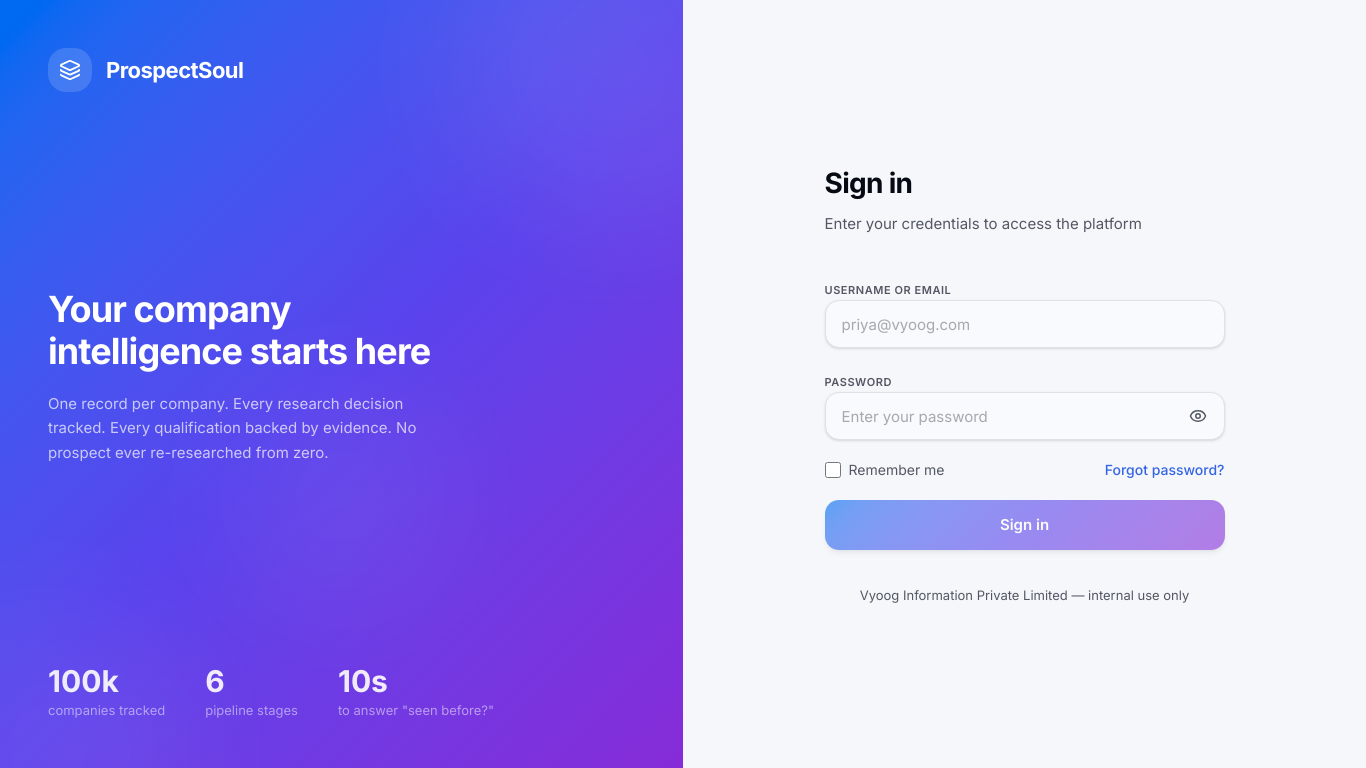
Test: LoginPage › shows error message on failed login
Type "bad" into the field labelled "Username or email" at (1024,324), box [824, 300, 1224, 348]
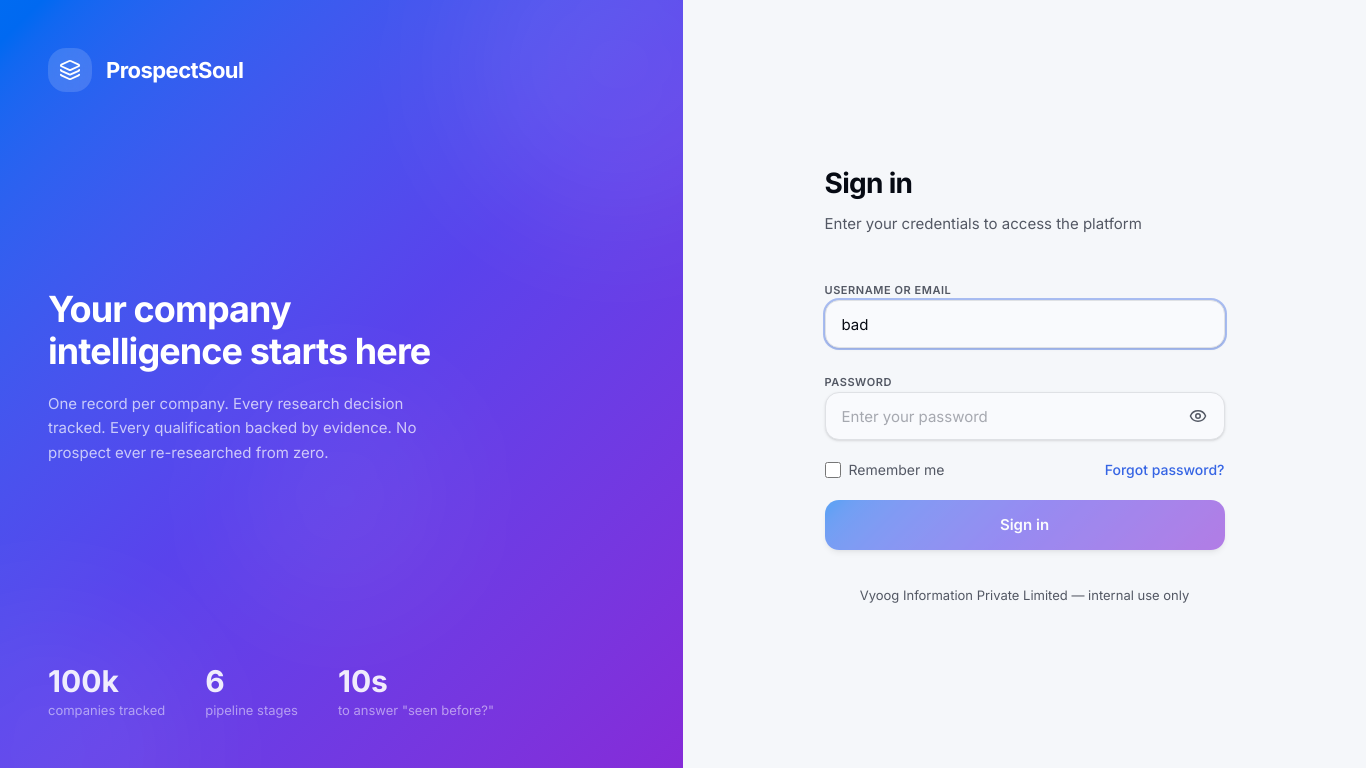
Type "wrong" into the password field labelled "Password" at (1024,416), box [824, 392, 1224, 440]
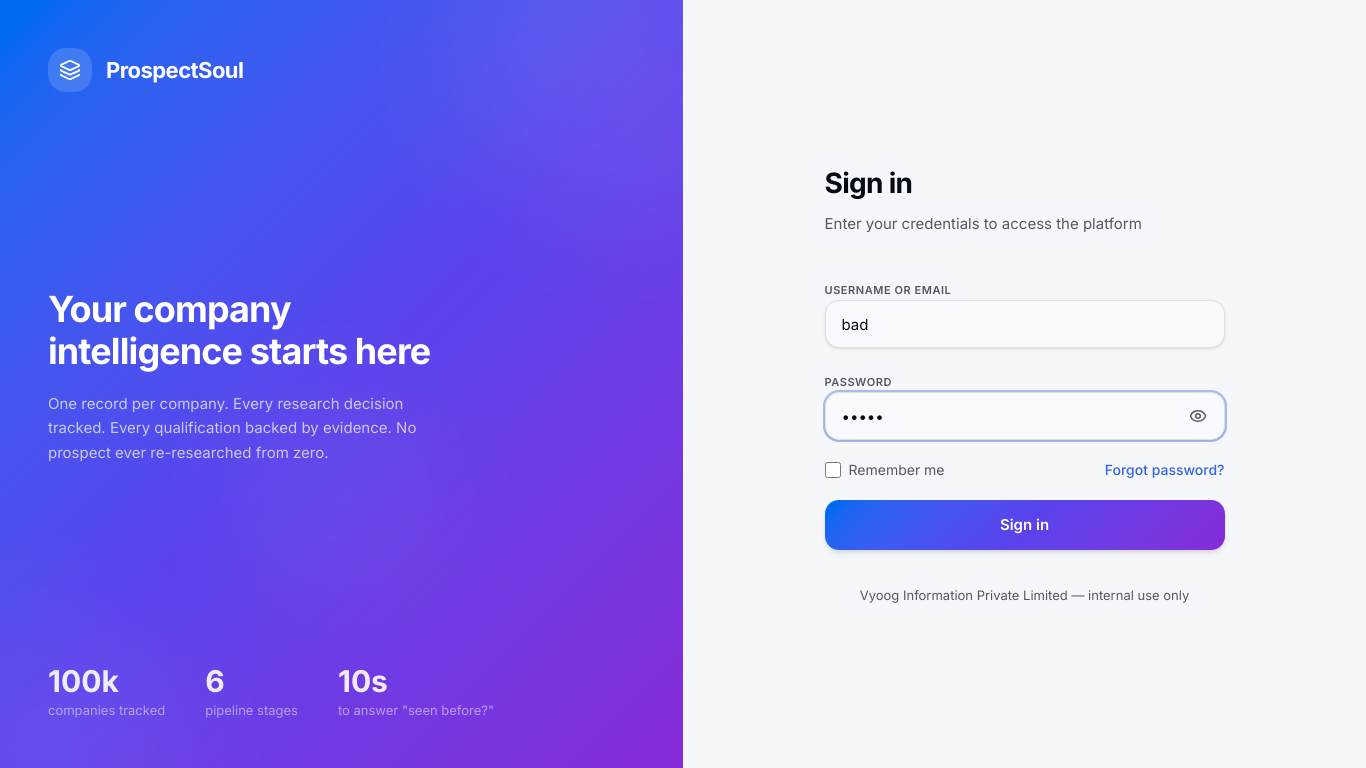
Click the button "Sign in" at (1024,525), box [824, 500, 1224, 550]
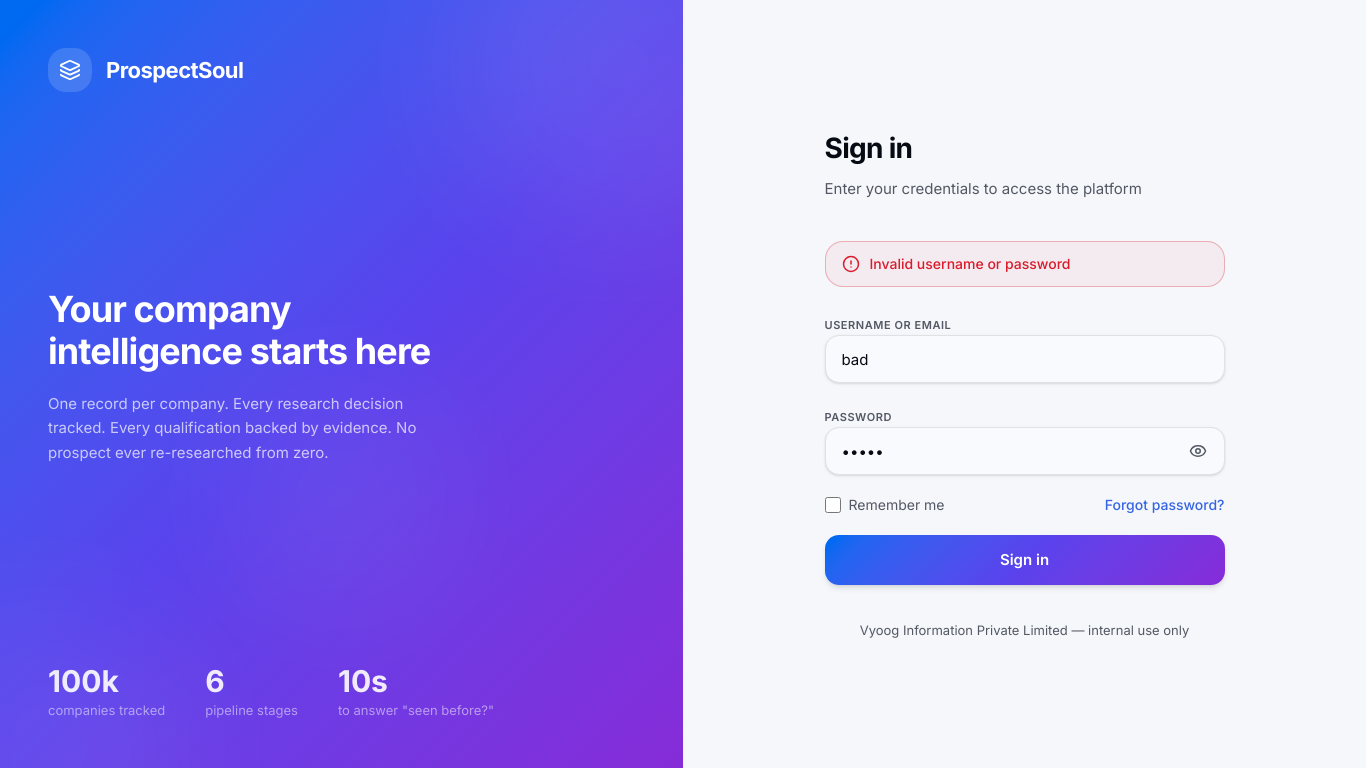
Check: the text "Invalid username or password" is shown, box [824, 241, 1224, 287]
